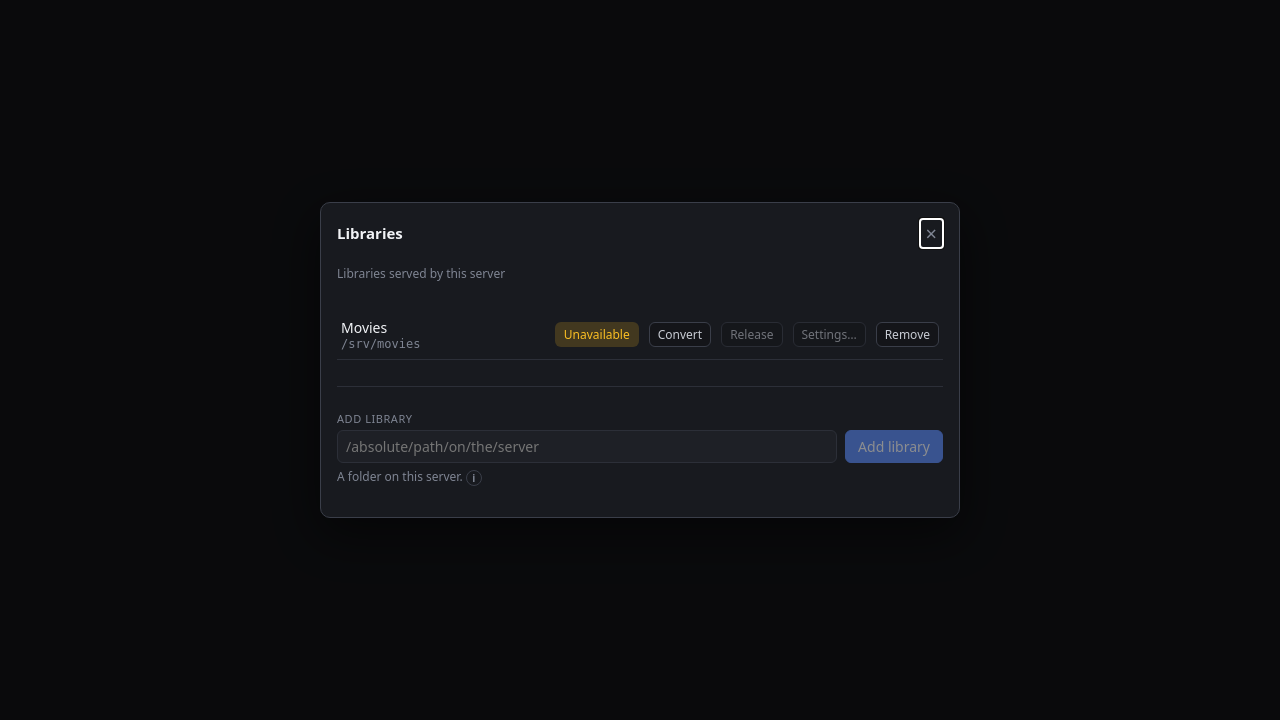
reviews an already registered old library instead of opening or registering it
The image size is (1280, 720).
Expected: the button with aria-label "Convert Movies" is shown, x1=649 y1=322 x2=711 y2=347
Type "/srv/movies" into the dropdown named "Library path".
click(587, 446); type("/srv/movies")  # box x1=337 y1=430 x2=837 y2=463
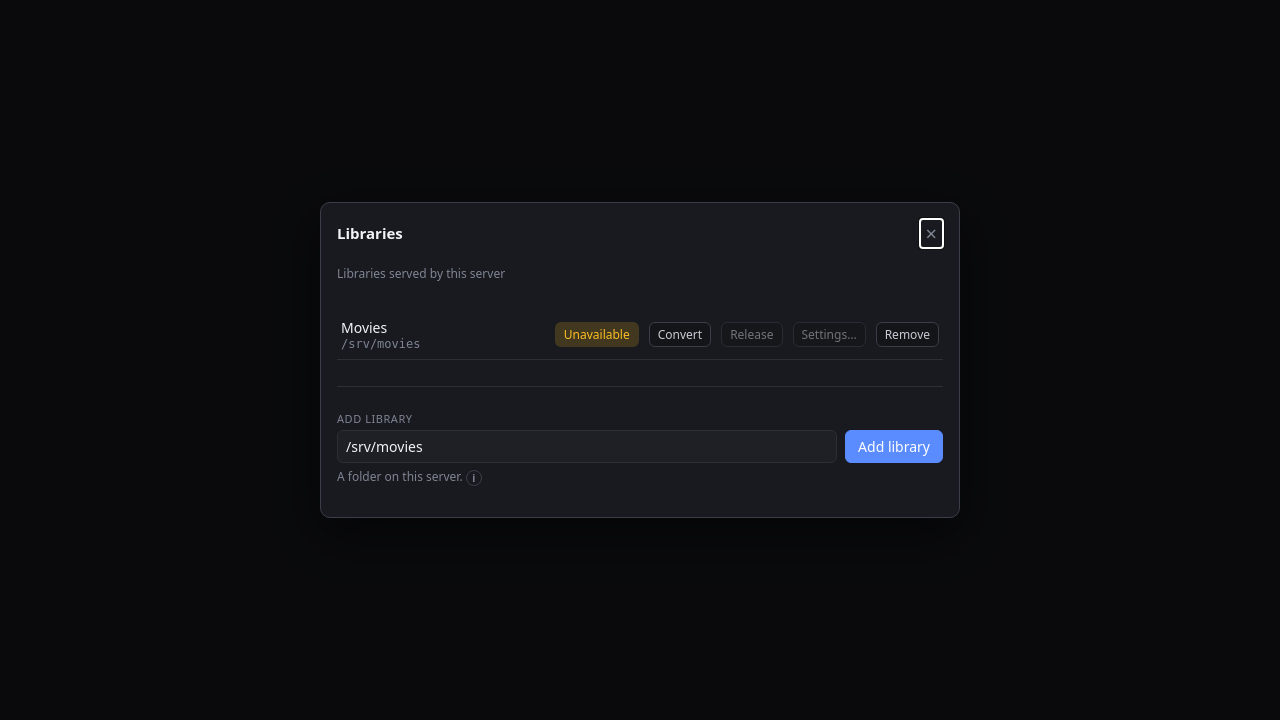
Click the button "Add library".
click(894, 446)  # box x1=845 y1=430 x2=943 y2=463
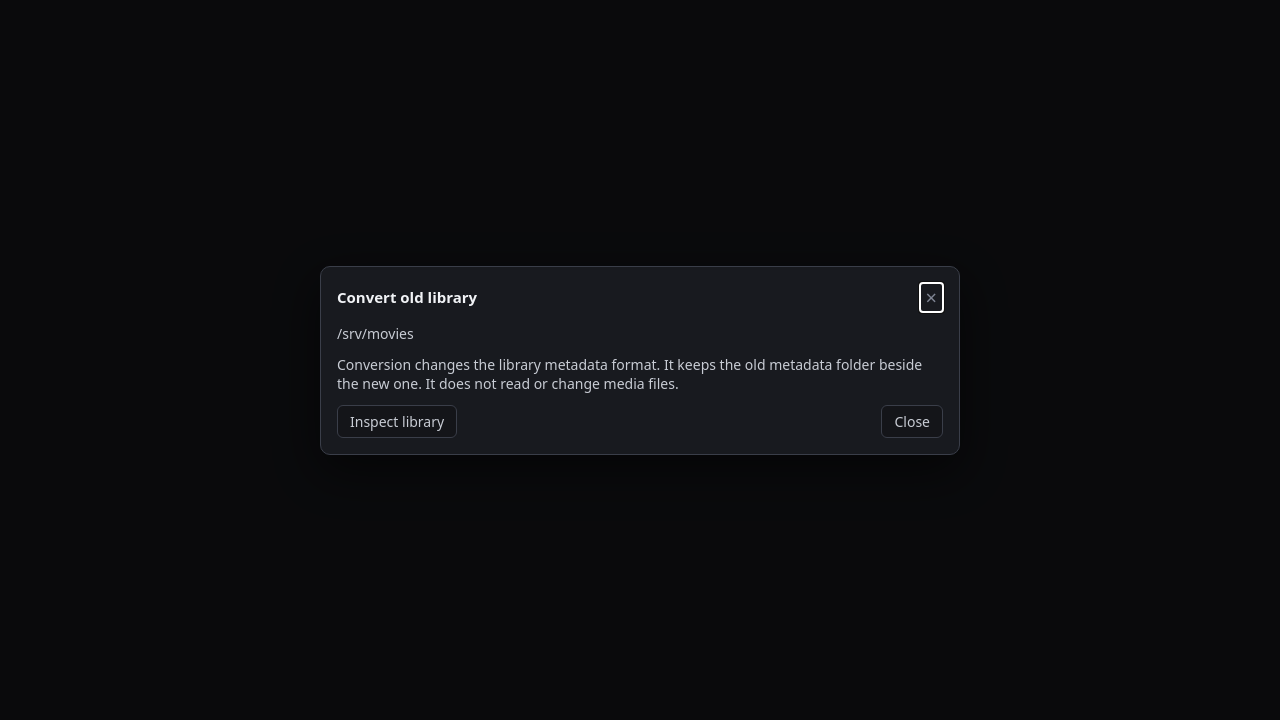
Result: the dialog "Convert old library" is shown at x1=320 y1=266 x2=960 y2=454
